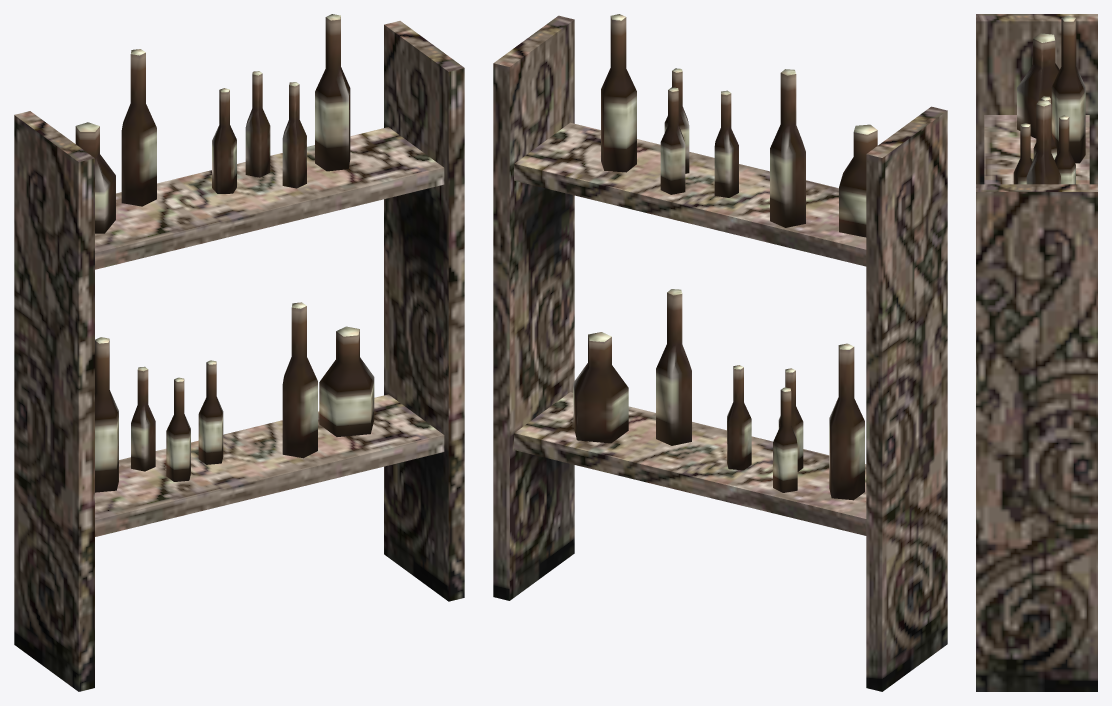
The picture shows the model from 3 angles, left to right: view 1: azimuth 30°, elevation 25°; view 2: azimuth 150°, elevation 25°; view 3: azimuth 270°, elevation 25°; orthographic projection. The views are drawn at different scales.
Parts seen in each view (by area): view 1: Furniture02; view 2: Furniture02; view 3: Furniture02.
Boxes of the visible parts, bbox=[...] form: Furniture02: bbox=[14, 14, 464, 691]; Furniture02: bbox=[493, 14, 947, 691]; Furniture02: bbox=[976, 14, 1097, 691].
Size of the model in its own units: 160 by 229 by 46.43.
